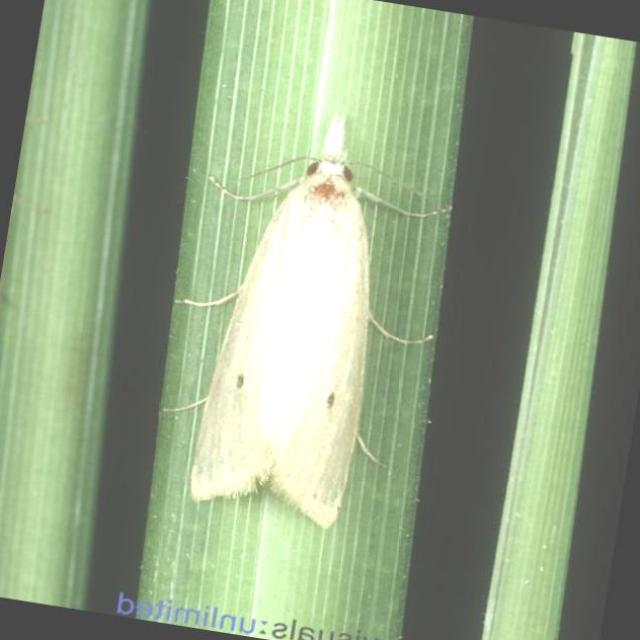stem borer: (191, 117, 451, 527)
